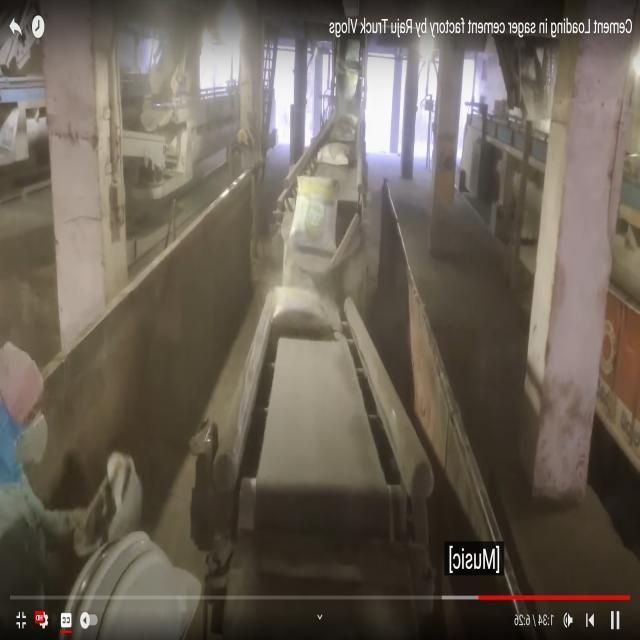gunny_bag: (290, 176, 338, 255), (329, 112, 358, 141), (317, 140, 349, 164)
